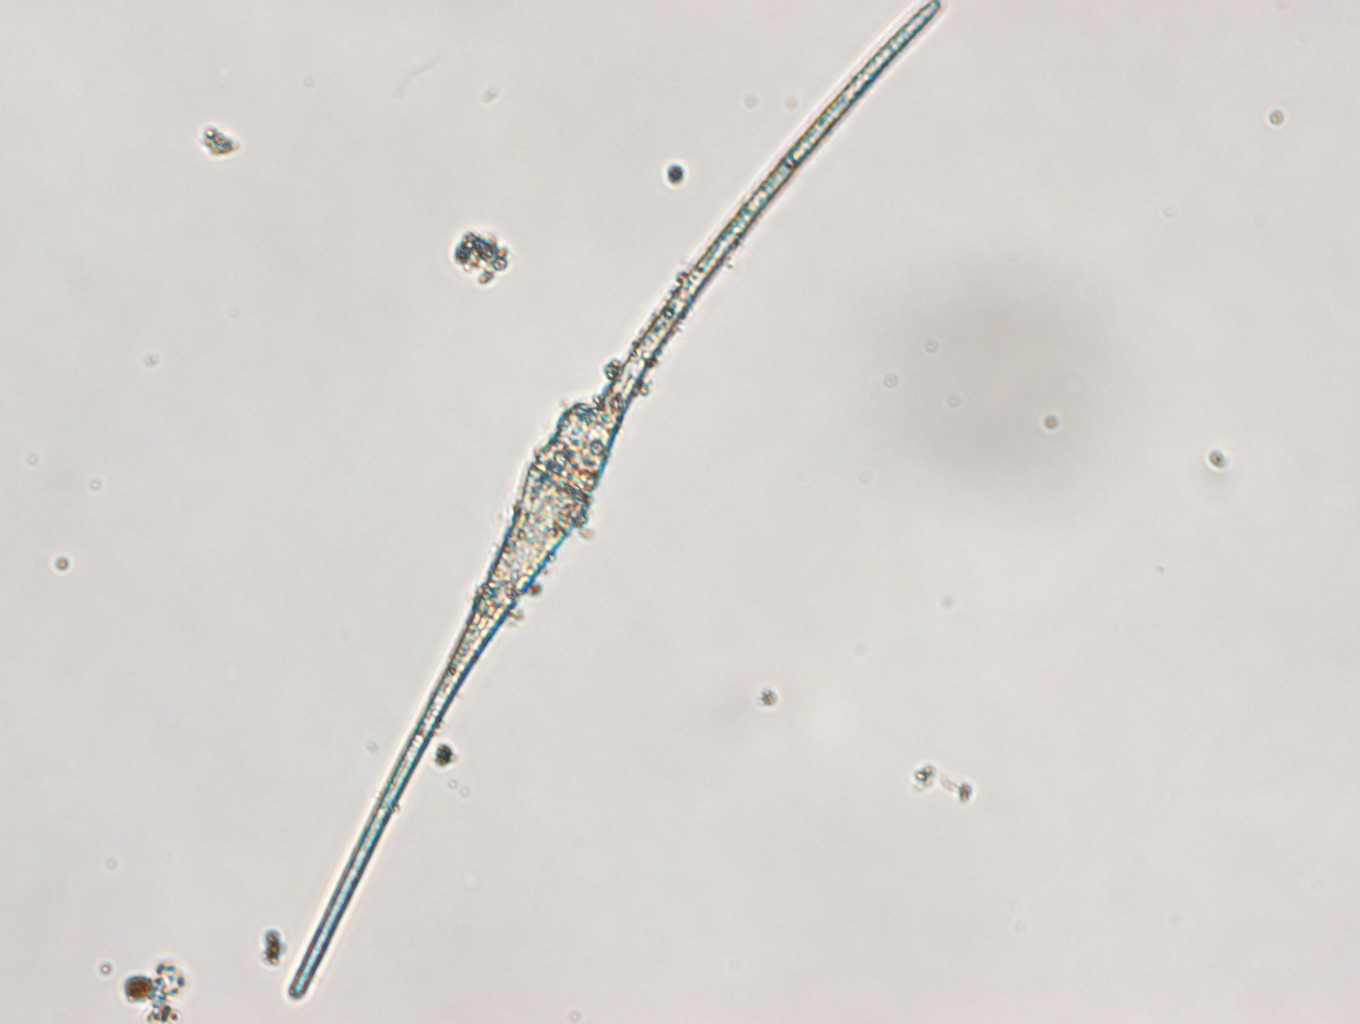ceratium fusus: (287, 1, 946, 1006)
